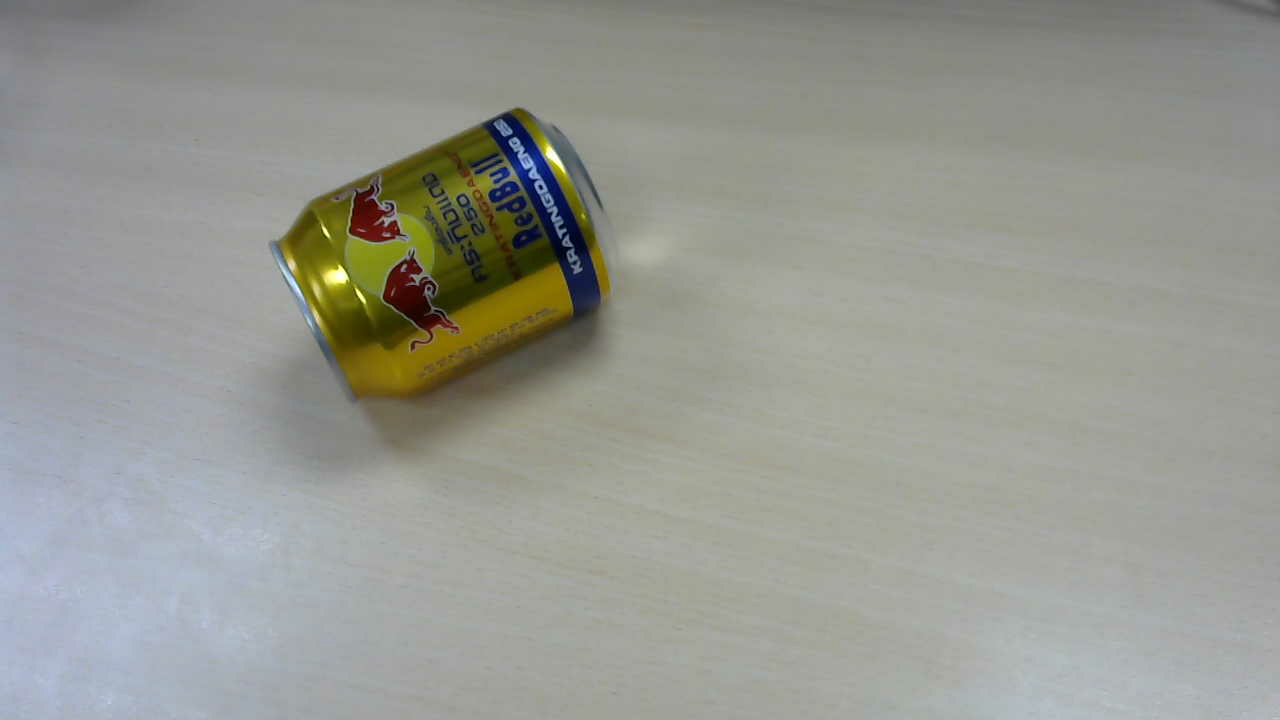Red_Bull: (277, 116, 625, 406)
